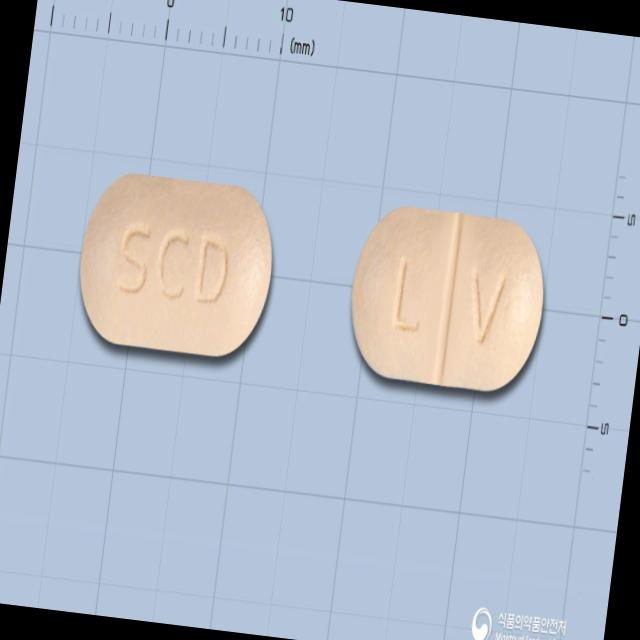Levostar: (71, 166, 282, 363), (341, 202, 553, 397)
